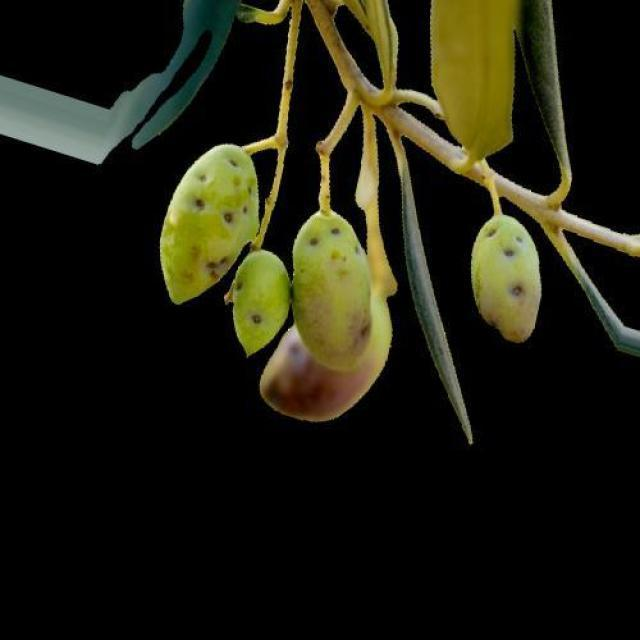Anthracnose: (162, 144, 258, 304), (292, 211, 371, 371), (471, 212, 540, 340), (232, 250, 286, 356)
